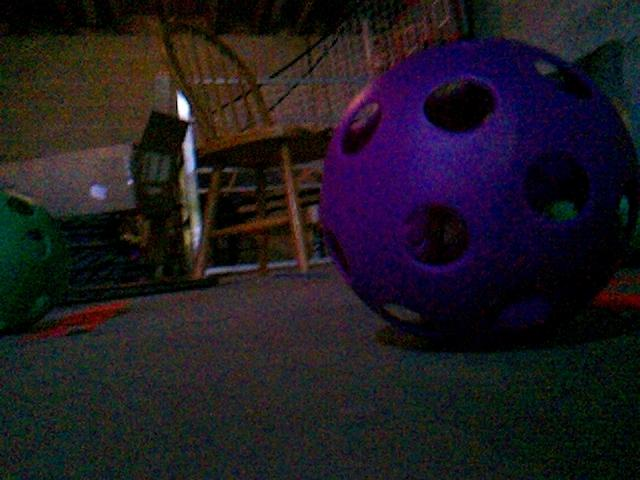Green: (0, 189, 73, 333)
Purple: (317, 40, 639, 345)
